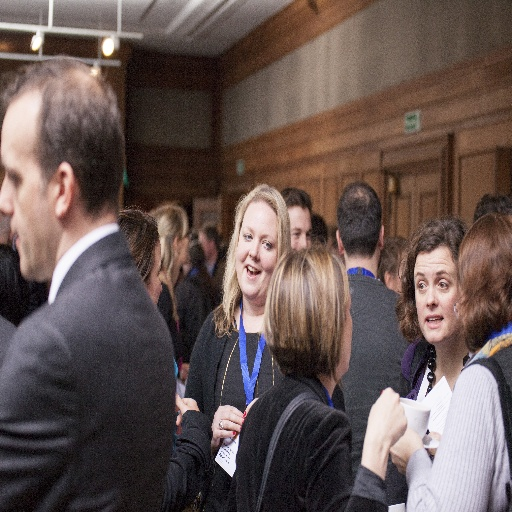hand: (363, 376, 424, 490), (388, 427, 423, 478), (210, 406, 245, 456), (174, 391, 199, 427), (423, 429, 442, 459), (242, 397, 259, 417), (182, 364, 189, 378)
